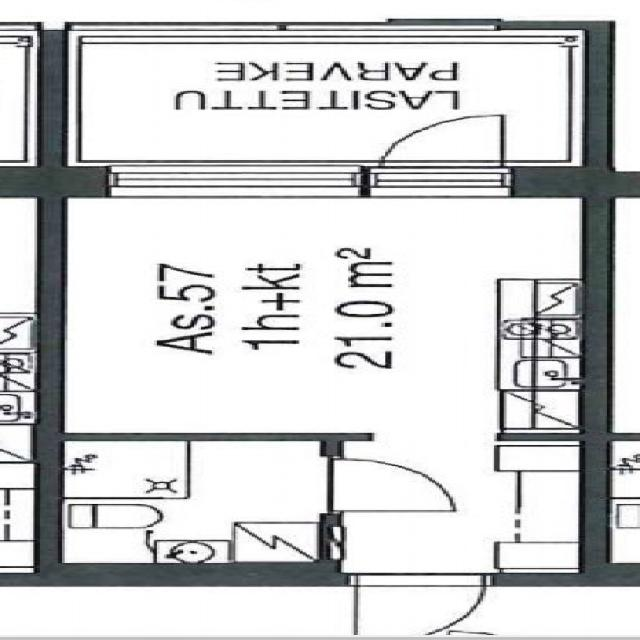door: (378, 109, 502, 197), (355, 571, 481, 640), (329, 459, 454, 510)
